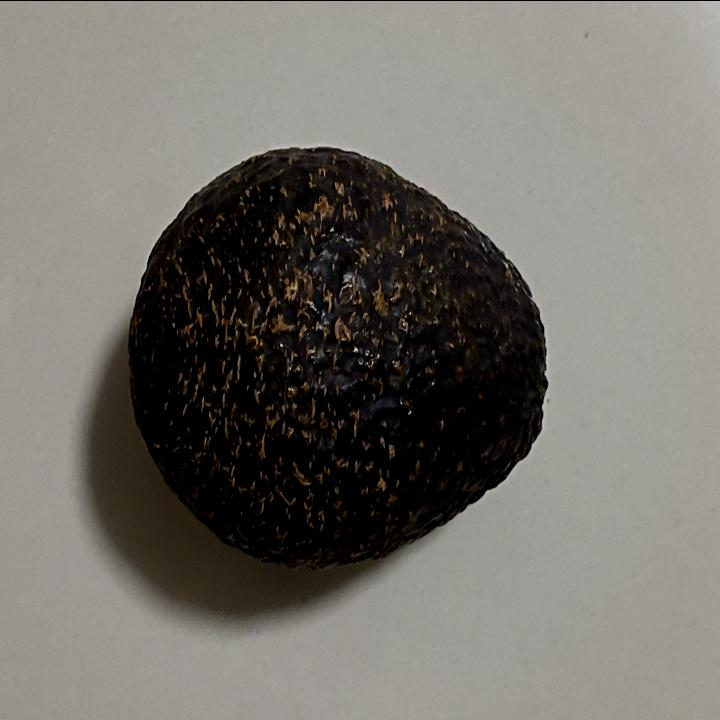Level3: (122, 128, 560, 584)
